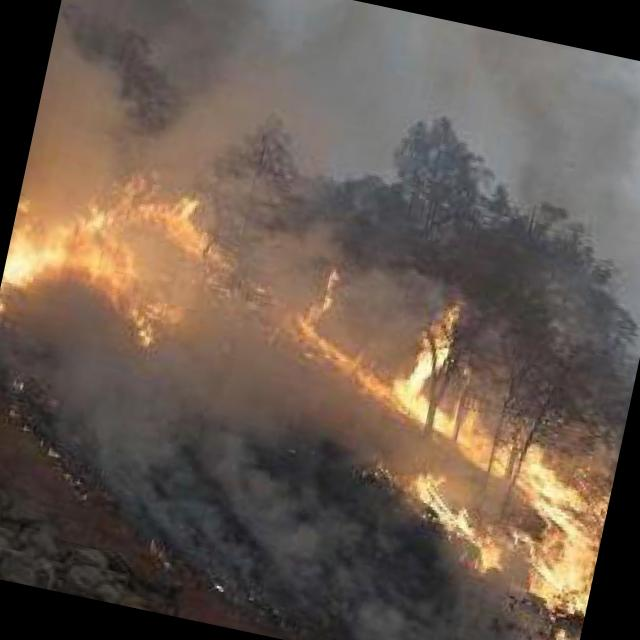fire: (226, 273, 640, 640), (0, 150, 221, 364)
smoke: (0, 301, 427, 591), (30, 0, 282, 206), (225, 564, 580, 640)
